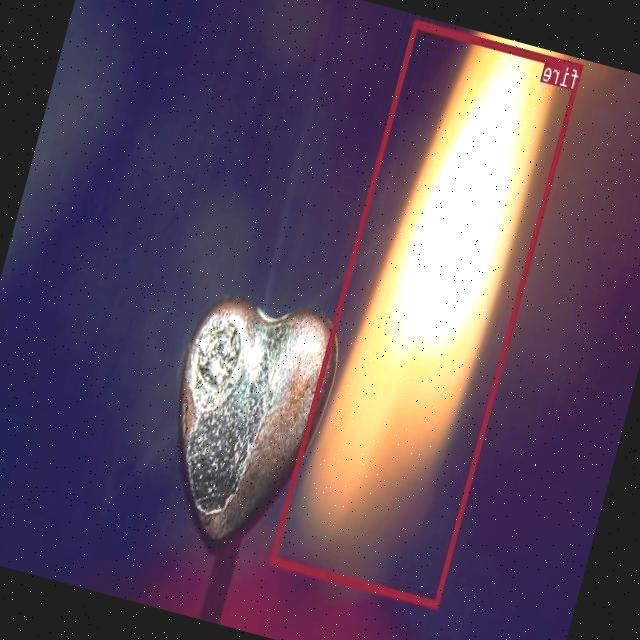fire: (270, 19, 584, 608)
